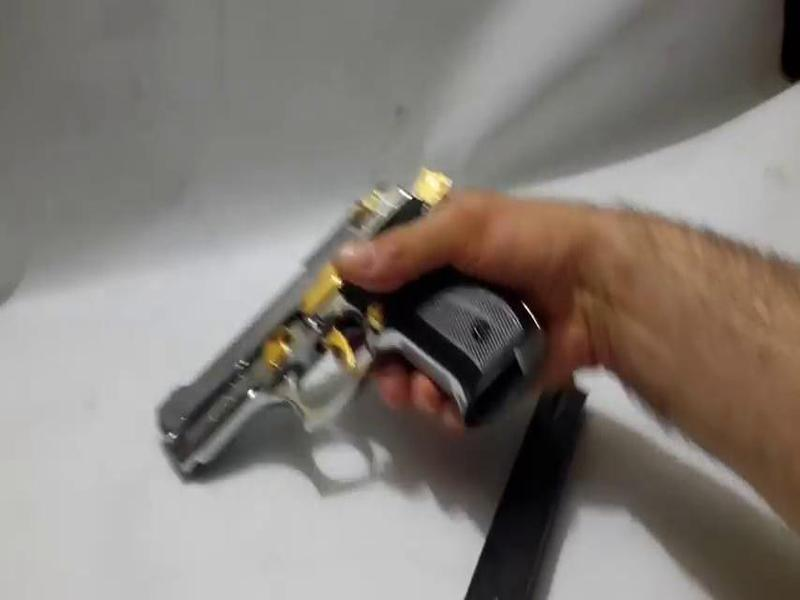Pistola: (157, 167, 542, 484)
